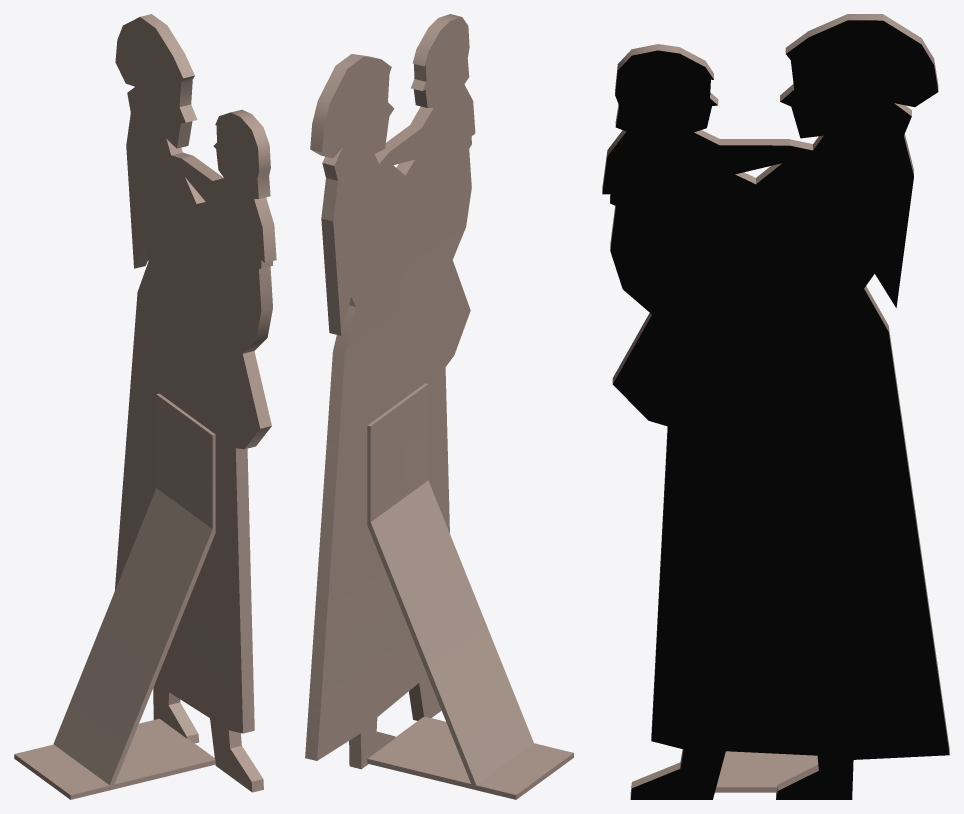
File: Dame  med unge 1.FBX
3 views of the same model, side by side, from view 1: azimuth 30°, elevation 25°; view 2: azimuth 150°, elevation 25°; view 3: azimuth 270°, elevation 25° (orthographic). The views are drawn at different scales.
Parts seen in each view (by area): view 1: Dame med unge; view 2: Dame med unge; view 3: Dame med unge.
Boxes of the visible parts, bbox=[...] form: Dame med unge: bbox=[14, 14, 276, 799]; Dame med unge: bbox=[305, 14, 573, 799]; Dame med unge: bbox=[602, 14, 949, 799].
Bounding box in the file's own units: 40.25 × 170 × 68.68.
